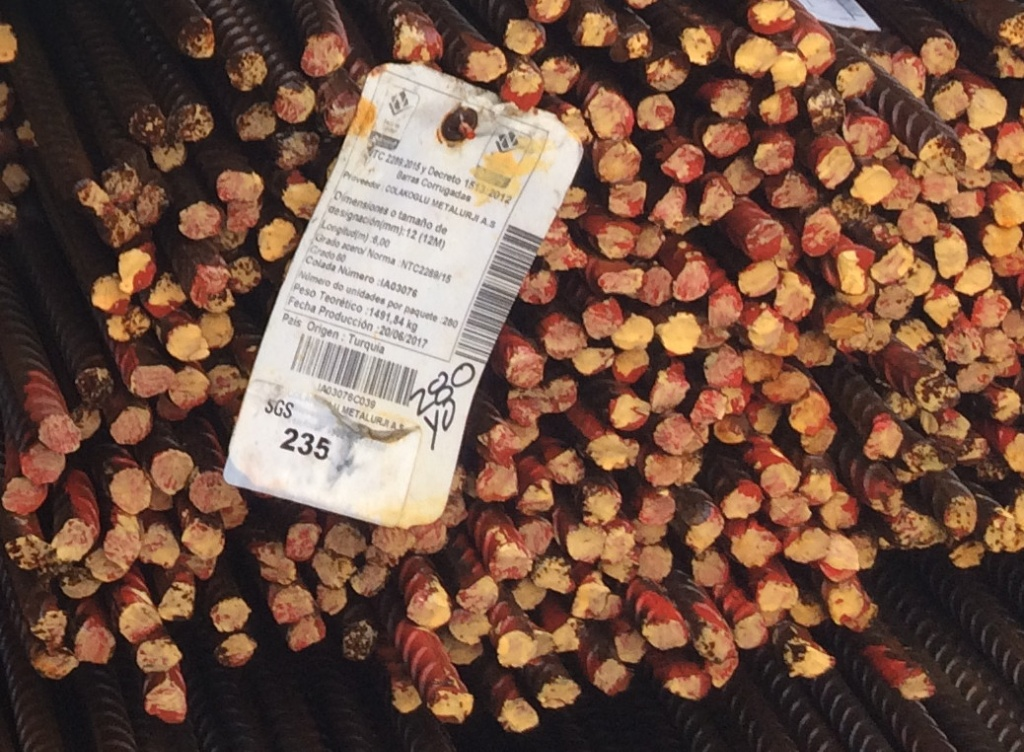dipstick: (587, 90, 634, 139), (829, 246, 876, 295), (190, 265, 236, 312), (110, 468, 156, 514), (301, 33, 348, 78), (752, 311, 799, 356), (190, 471, 239, 513), (151, 450, 196, 495), (818, 532, 858, 582), (118, 602, 164, 645), (597, 140, 640, 184), (836, 588, 878, 633), (732, 529, 781, 567), (588, 434, 638, 471), (646, 182, 687, 227), (78, 617, 116, 665), (145, 681, 187, 724), (258, 218, 299, 262), (678, 24, 722, 65), (19, 444, 66, 482), (169, 366, 210, 409), (775, 276, 815, 320), (646, 51, 690, 91), (772, 169, 818, 207), (806, 90, 843, 137), (658, 313, 700, 354), (734, 37, 776, 78), (583, 297, 623, 340), (501, 70, 544, 110), (789, 392, 829, 435), (273, 586, 318, 624), (49, 520, 94, 558), (104, 528, 144, 570), (476, 462, 520, 500), (659, 144, 703, 182), (852, 165, 896, 203), (165, 324, 210, 361), (703, 120, 749, 156), (91, 274, 131, 315), (711, 79, 751, 120), (110, 407, 152, 446), (720, 481, 763, 519), (697, 178, 735, 221), (980, 223, 1024, 260), (105, 305, 150, 341), (275, 83, 316, 122), (282, 181, 323, 220), (846, 116, 885, 157), (394, 30, 441, 64), (456, 575, 498, 613), (593, 659, 635, 697), (871, 243, 913, 281), (181, 520, 224, 557), (572, 586, 620, 619), (118, 248, 153, 293), (748, 1, 797, 33), (101, 163, 141, 202), (129, 104, 167, 145), (544, 320, 585, 358), (919, 34, 957, 75), (971, 289, 1009, 330), (171, 104, 213, 141), (324, 522, 366, 559), (508, 389, 550, 426), (923, 282, 960, 324), (936, 231, 969, 278), (276, 133, 319, 169), (803, 210, 838, 254), (958, 127, 993, 171), (38, 417, 82, 452), (654, 414, 693, 453), (966, 89, 1005, 128), (566, 524, 606, 562), (897, 204, 937, 242), (644, 616, 690, 649), (194, 312, 235, 349), (4, 477, 45, 514), (314, 553, 356, 589), (534, 556, 576, 592), (343, 619, 378, 662), (449, 609, 492, 644), (4, 535, 47, 570), (217, 170, 264, 202), (137, 639, 181, 673), (327, 90, 360, 135), (142, 528, 180, 567), (610, 393, 649, 431), (704, 352, 743, 390), (723, 156, 761, 195), (820, 491, 859, 529), (541, 57, 581, 94), (649, 375, 689, 412), (236, 103, 277, 139), (178, 202, 219, 238), (465, 46, 506, 82), (708, 288, 744, 329), (797, 33, 833, 74), (863, 418, 899, 459), (408, 593, 450, 628), (786, 528, 829, 562), (287, 615, 326, 652), (692, 548, 729, 587), (78, 367, 114, 407), (350, 563, 390, 599), (673, 261, 709, 301), (638, 266, 674, 306), (227, 52, 268, 87), (498, 698, 539, 733), (573, 13, 617, 45), (159, 583, 196, 621), (497, 631, 535, 668), (686, 510, 724, 547), (927, 137, 964, 175), (574, 339, 613, 375), (133, 185, 168, 225), (205, 365, 240, 405), (210, 597, 250, 632), (505, 19, 545, 54), (614, 314, 654, 349), (738, 262, 778, 297), (755, 141, 796, 175), (130, 365, 173, 397), (285, 523, 322, 560), (694, 627, 732, 663), (913, 374, 949, 412), (176, 22, 215, 57), (666, 668, 710, 699), (763, 370, 807, 401), (215, 634, 256, 667), (432, 690, 473, 723), (760, 464, 801, 497), (30, 610, 71, 643), (491, 542, 529, 577), (791, 591, 829, 626), (801, 421, 839, 456), (88, 548, 127, 582), (546, 450, 585, 484), (758, 90, 797, 124), (61, 563, 100, 597), (538, 677, 582, 707), (747, 220, 780, 260), (817, 146, 850, 186), (371, 528, 418, 556), (793, 645, 835, 676), (518, 519, 554, 555), (734, 612, 769, 649), (636, 94, 673, 129), (822, 304, 859, 339), (799, 469, 837, 503), (837, 63, 875, 97), (768, 495, 811, 525), (597, 225, 636, 258), (613, 348, 649, 383), (932, 82, 967, 118), (945, 327, 980, 363), (506, 351, 544, 384), (638, 546, 672, 582), (609, 183, 646, 216), (948, 185, 986, 217), (582, 492, 621, 523), (794, 331, 828, 366), (876, 287, 911, 321), (229, 256, 262, 292), (645, 453, 681, 486), (941, 499, 974, 535), (638, 493, 675, 525), (521, 271, 557, 303), (693, 389, 727, 422), (758, 580, 795, 610), (994, 189, 1024, 226), (520, 480, 553, 513), (153, 141, 188, 172), (711, 415, 749, 443), (513, 576, 546, 608), (615, 630, 647, 663), (315, 584, 348, 615), (548, 377, 577, 411), (528, 1, 571, 22), (392, 682, 421, 713), (900, 673, 933, 699), (553, 623, 584, 650), (229, 202, 261, 228)
